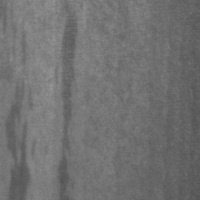inclusion: (53, 5, 81, 199), (5, 79, 32, 199), (1, 1, 27, 84)
